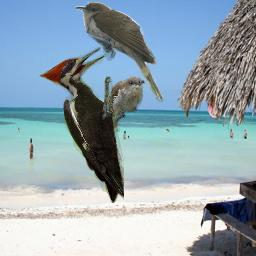Cuckoo: (75, 2, 163, 103), (106, 76, 145, 132)
Woodpecker: (39, 47, 124, 203)
